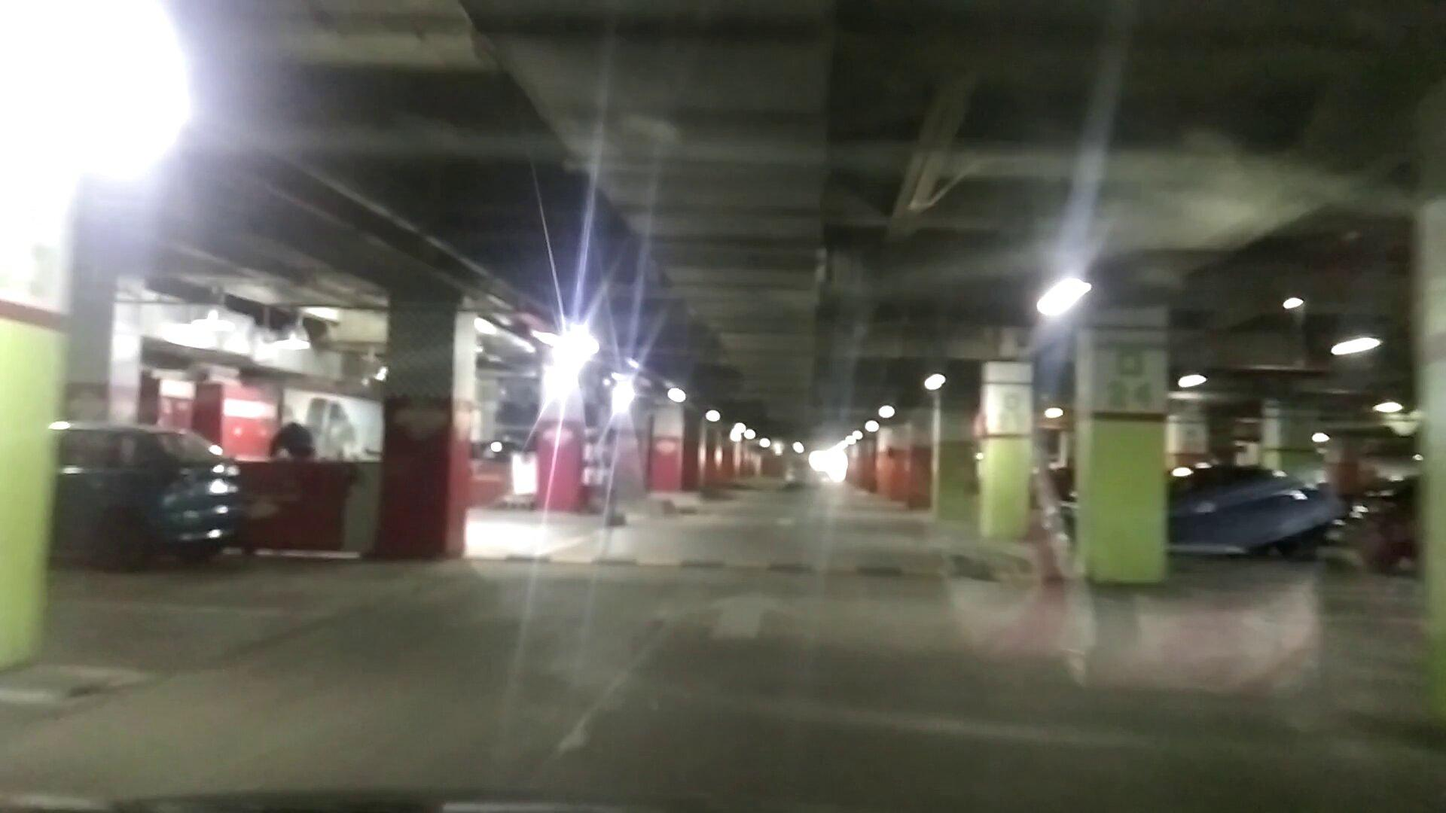Bump: (488, 544, 1047, 589)
